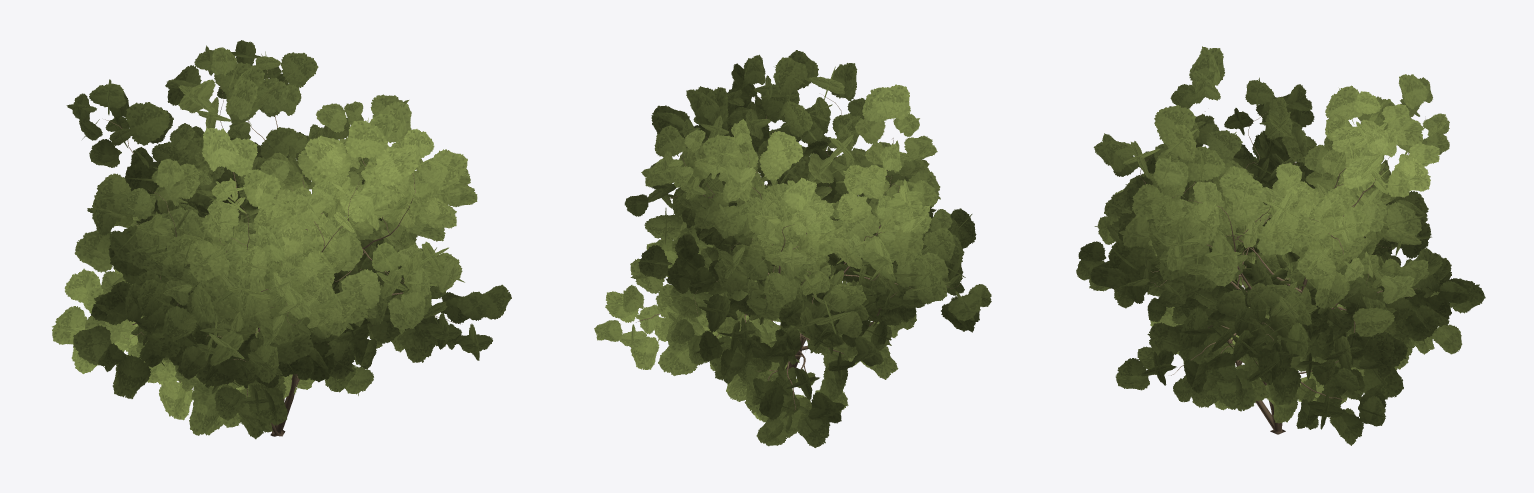
Rendered from matorral-alto.glb.
3 views of the same model, side by side, from view 1: azimuth 30°, elevation 25°; view 2: azimuth 150°, elevation 25°; view 3: azimuth 270°, elevation 25° (orthographic). The views are drawn at different scales.
Visible parts, largest first — view 1: matorral; view 2: matorral; view 3: matorral.
Part boxes in pixels (x1,y1,x2,y2): matorral: [52, 40, 511, 439]; matorral: [594, 50, 991, 447]; matorral: [1076, 46, 1485, 445].
Size of the model in its own units: 2.88 by 2.4 by 2.75.
Materials: 2 (1 with a texture image).
